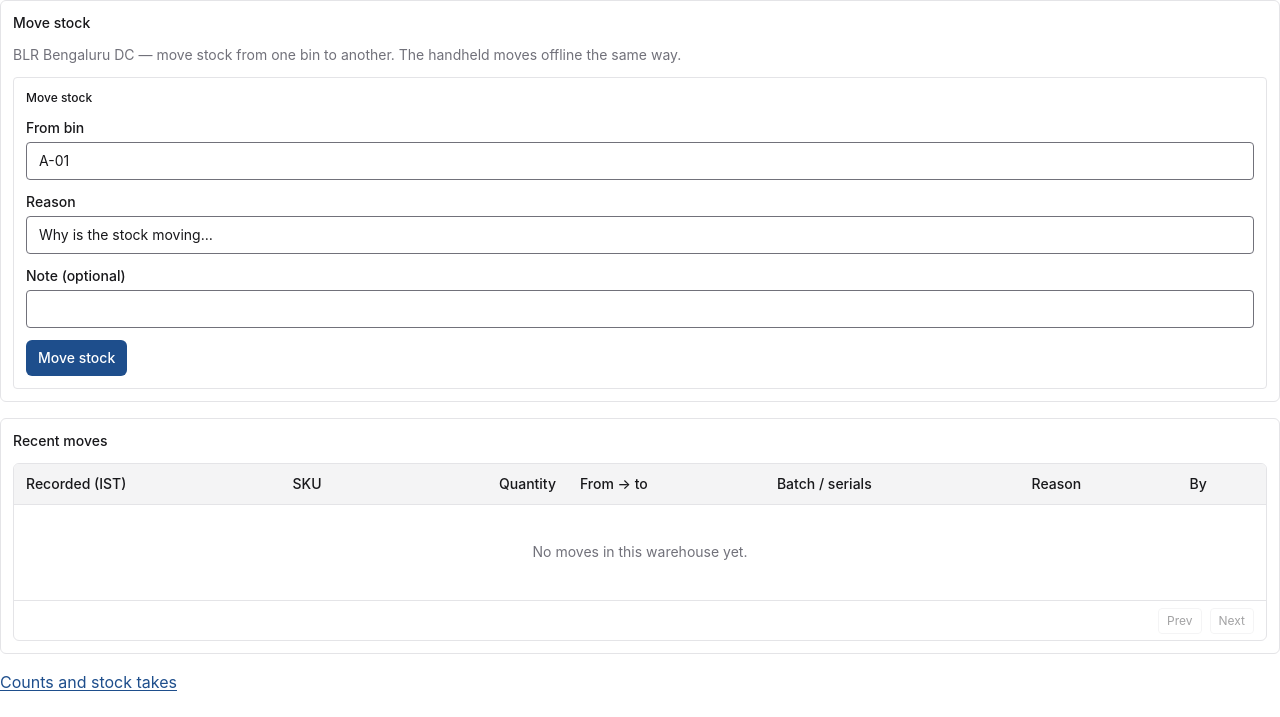
Scenario: the Moves page (story 3-1) › the SKU options are the origin's own stock; the target list leaves out blocked, system, retired, secure and the origin; no secure origin for an operator
The width and height of the screenshot is (1280, 717).
Select "A-01" in the dropdown named "From bin": (640, 161) [26,142,1254,180]
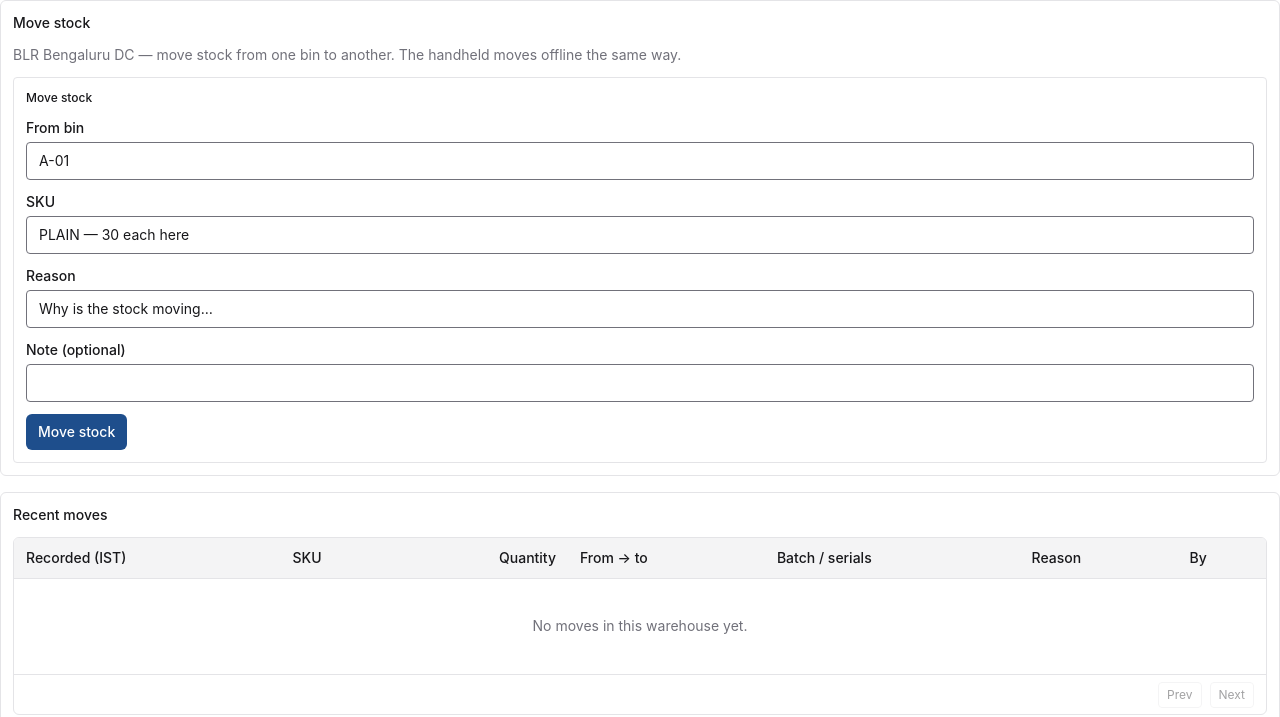
Select "PLAIN — 30 each here" in the dropdown named "SKU": (640, 235) [26,216,1254,254]
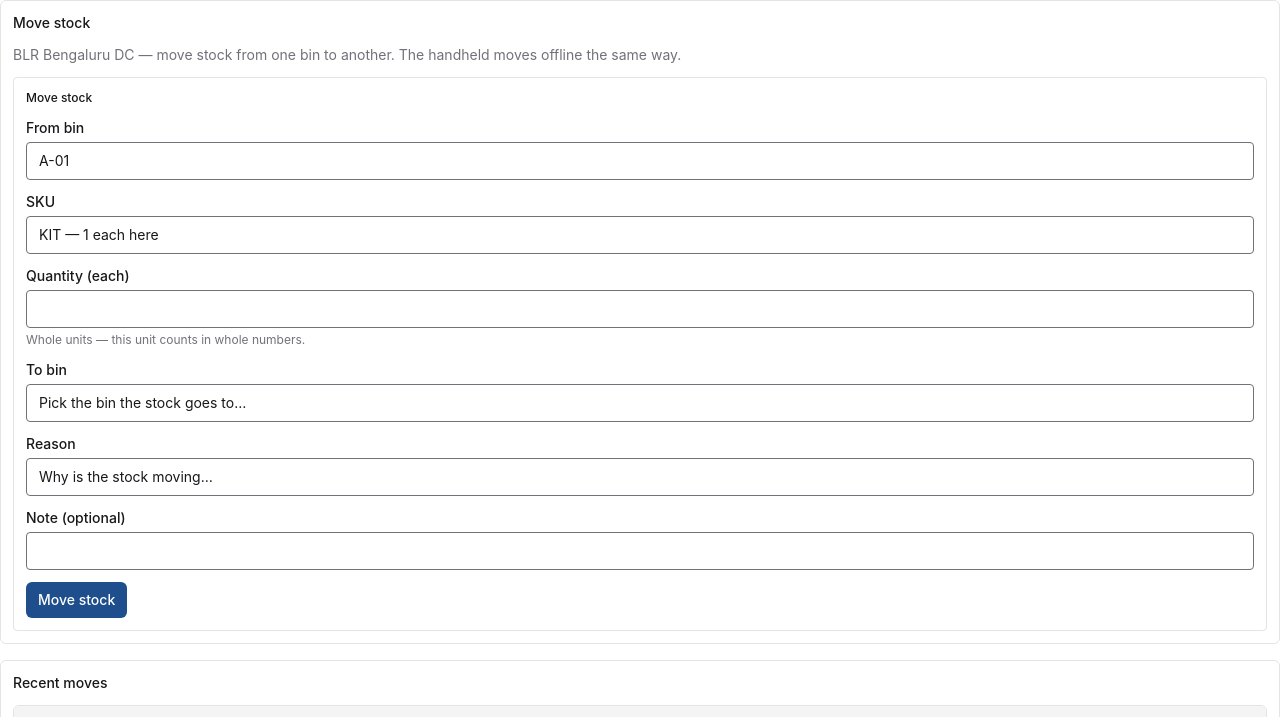
Select "KIT — 1 each here" in the dropdown named "SKU": (640, 235) [26,216,1254,254]
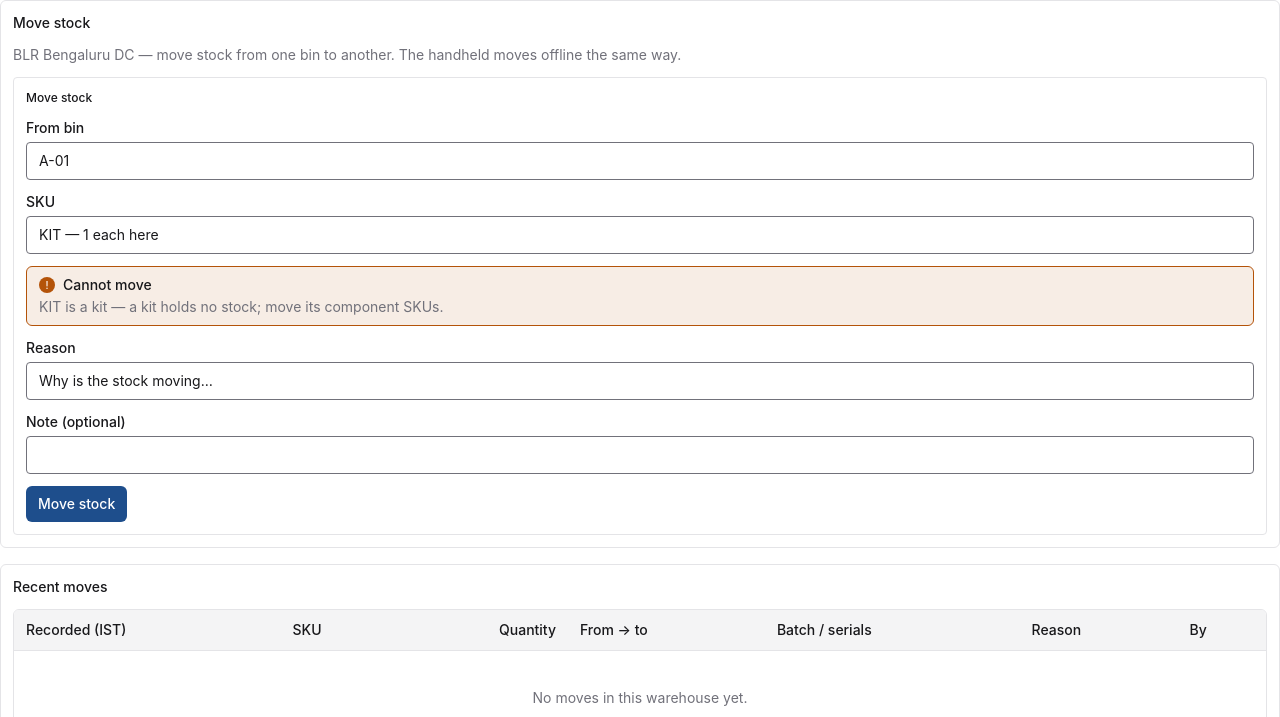
Expected: the form named "Move stock" shows "KIT is a kit — a kit holds no stock; move its component SKUs.", [39,298,444,315]
